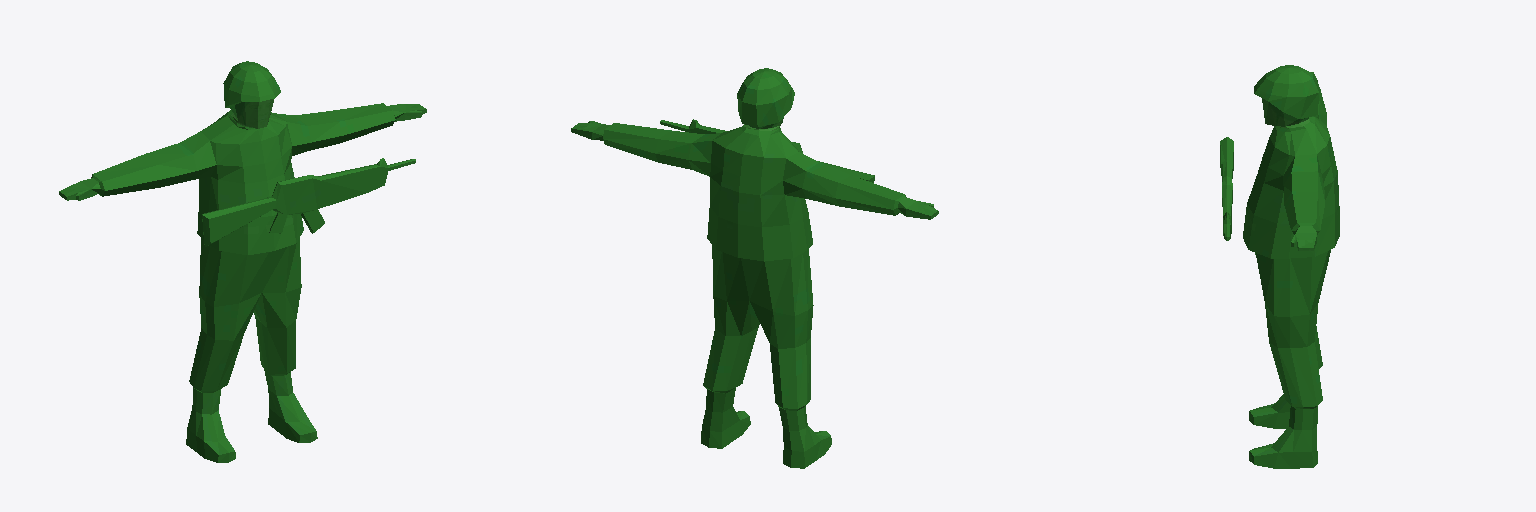
3 views of the same model, side by side, from view 1: azimuth 30°, elevation 25°; view 2: azimuth 150°, elevation 25°; view 3: azimuth 270°, elevation 25° (orthographic).
Visible parts, largest first — view 1: body, rifle; view 2: body, rifle; view 3: body, rifle.
Part boxes in pixels (bbox=[...]): body: bbox=[59, 61, 426, 462]; rifle: bbox=[202, 158, 415, 246]; body: bbox=[571, 68, 938, 468]; rifle: bbox=[660, 119, 874, 182]; body: bbox=[1243, 65, 1339, 468]; rifle: bbox=[1220, 137, 1233, 240].
Size of the model in its own units: 2.86 by 2.86 by 0.8226.
1 materials, 1 textured.